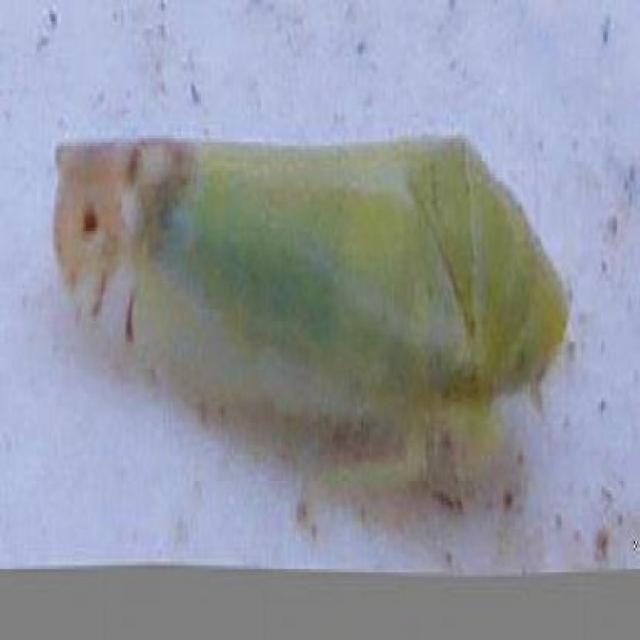green-leafhopper: (55, 129, 560, 449)
